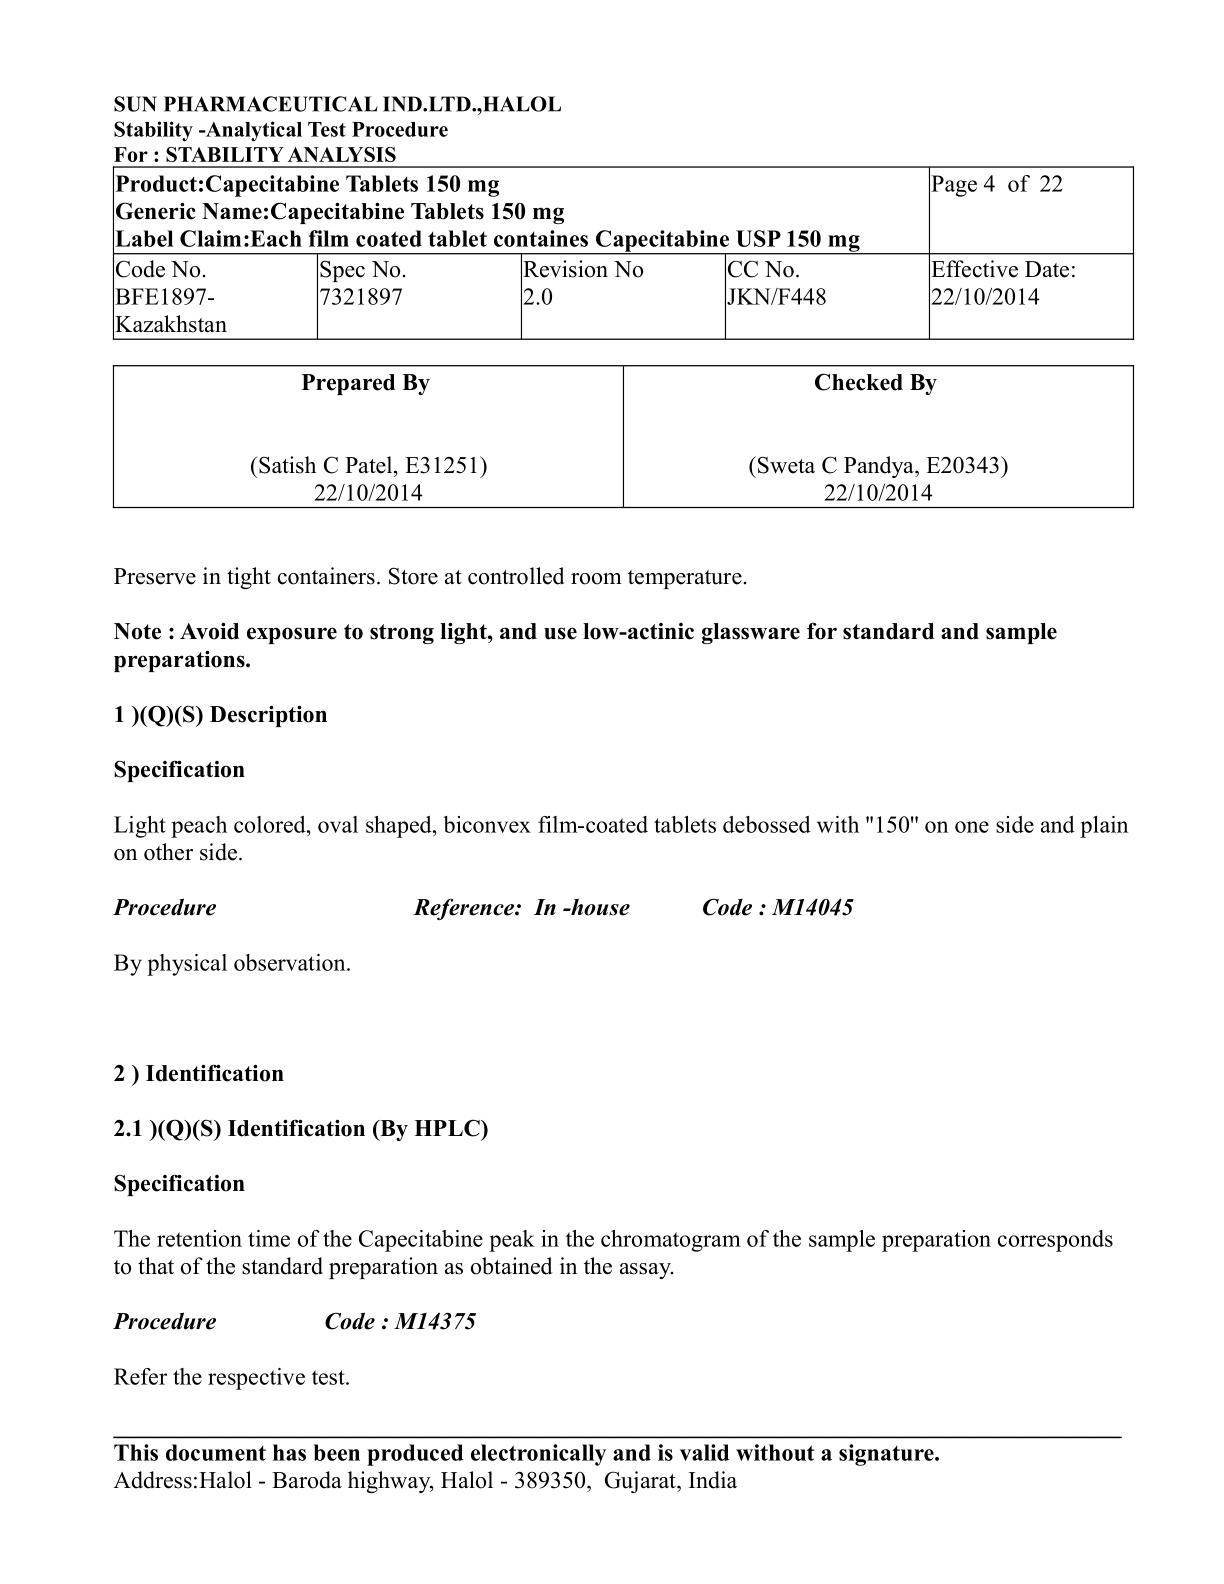full_lined: (111, 363, 1134, 508)
merged_cells: (112, 165, 1137, 341)
